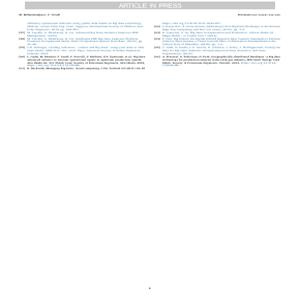text: (18, 18, 147, 75), (151, 18, 281, 73), (116, 1, 183, 10)
